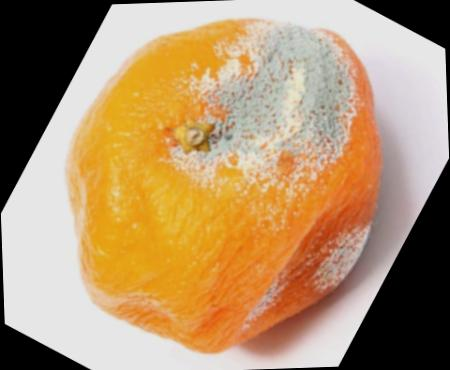Orange Rotten: (39, 7, 396, 366)
